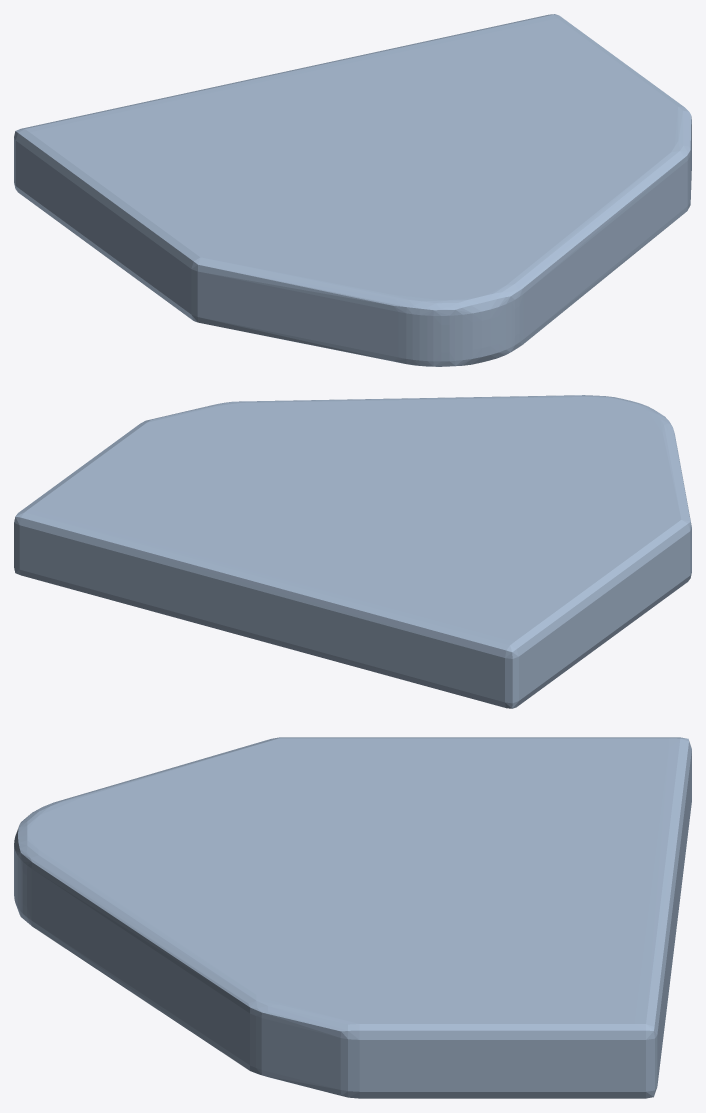
The model's file is right_ankle_link_part_6.obj.
3 views of the same model, one above another, from view 1: azimuth 30°, elevation 25°; view 2: azimuth 150°, elevation 25°; view 3: azimuth 270°, elevation 25° (orthographic). The views are drawn at different scales.
Bounding box in the file's own units: 0.0764 × 0.00887 × 0.074.
